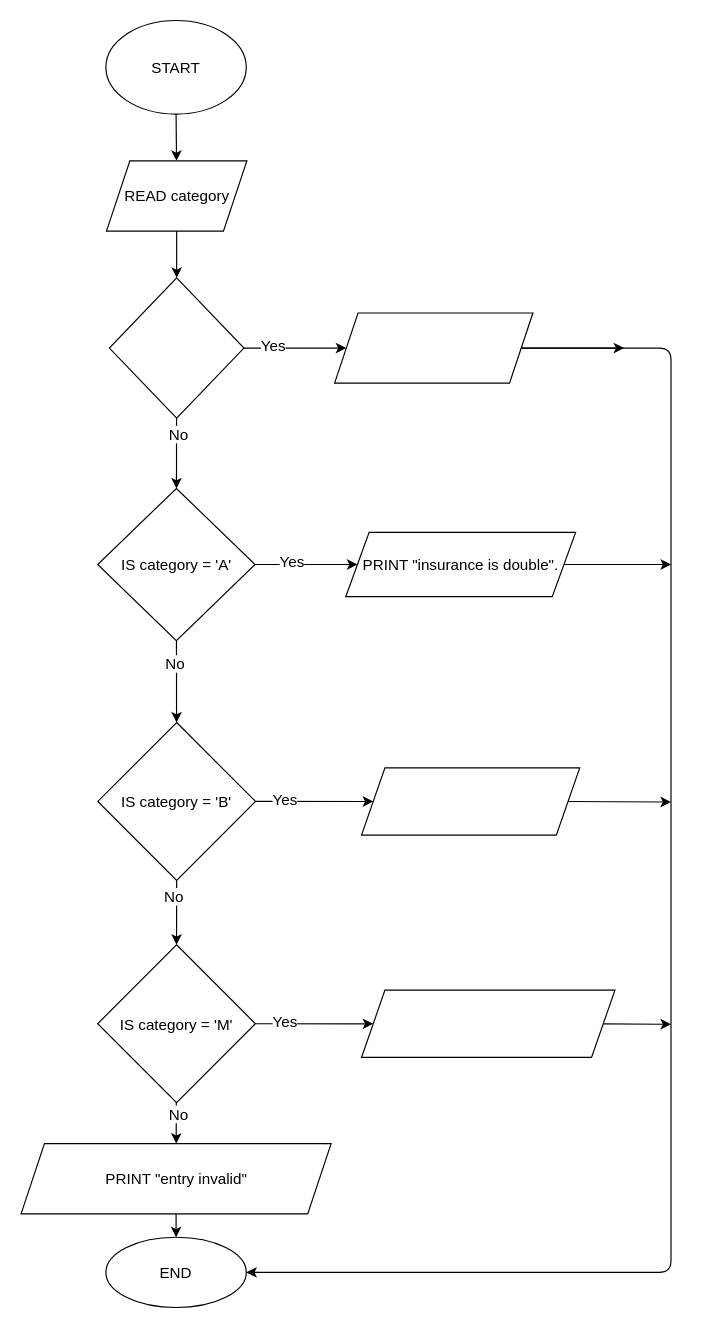
Some shapes in this 701 by 1328 pixel diagram are drawn without their labels. The centre of each missing label's shape, as x and y in pixels:
IS category= 'U': point (176, 347)
PRINT "insurance is medically dependent".: point (487, 1023)
PRINT "insurance is normal".: point (470, 801)
PRINT "insurance is not available.": point (433, 347)
